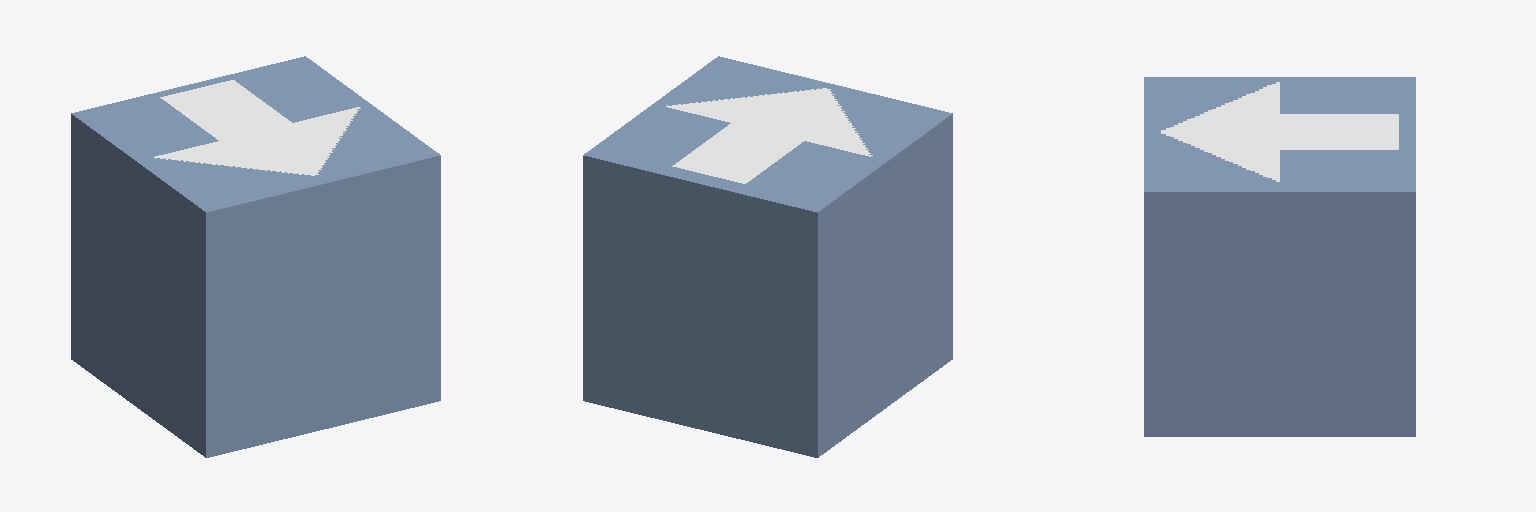
3 views of the same model, side by side, from view 1: azimuth 30°, elevation 25°; view 2: azimuth 150°, elevation 25°; view 3: azimuth 270°, elevation 25° (orthographic).
Visible parts, largest first — view 1: Studaligner1, Studaligner2; view 2: Studaligner1, Studaligner2; view 3: Studaligner1, Studaligner2.
Part boxes in pixels (left/top/right/bottom): Studaligner1: left=71, top=56, right=440, bottom=457; Studaligner2: left=154, top=80, right=360, bottom=175; Studaligner1: left=583, top=56, right=952, bottom=457; Studaligner2: left=666, top=88, right=872, bottom=183; Studaligner1: left=1144, top=77, right=1415, bottom=436; Studaligner2: left=1161, top=82, right=1398, bottom=181.
Bounding box in the file's own units: 2 × 2.02 × 2.
Materials: 2 (1 with a texture image).